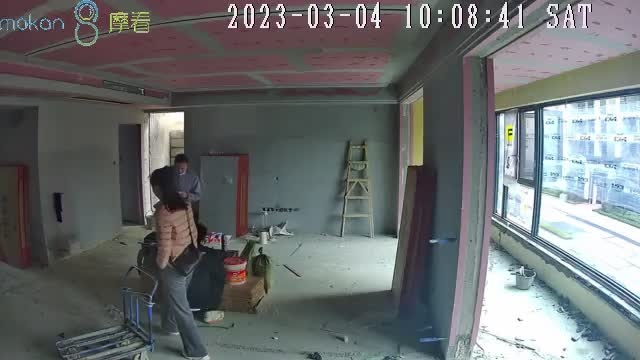people: (148, 166, 213, 360)
window: (494, 95, 640, 318)
